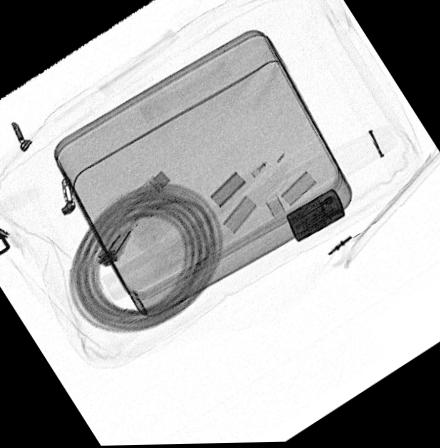Lighter: (285, 189, 344, 243)
